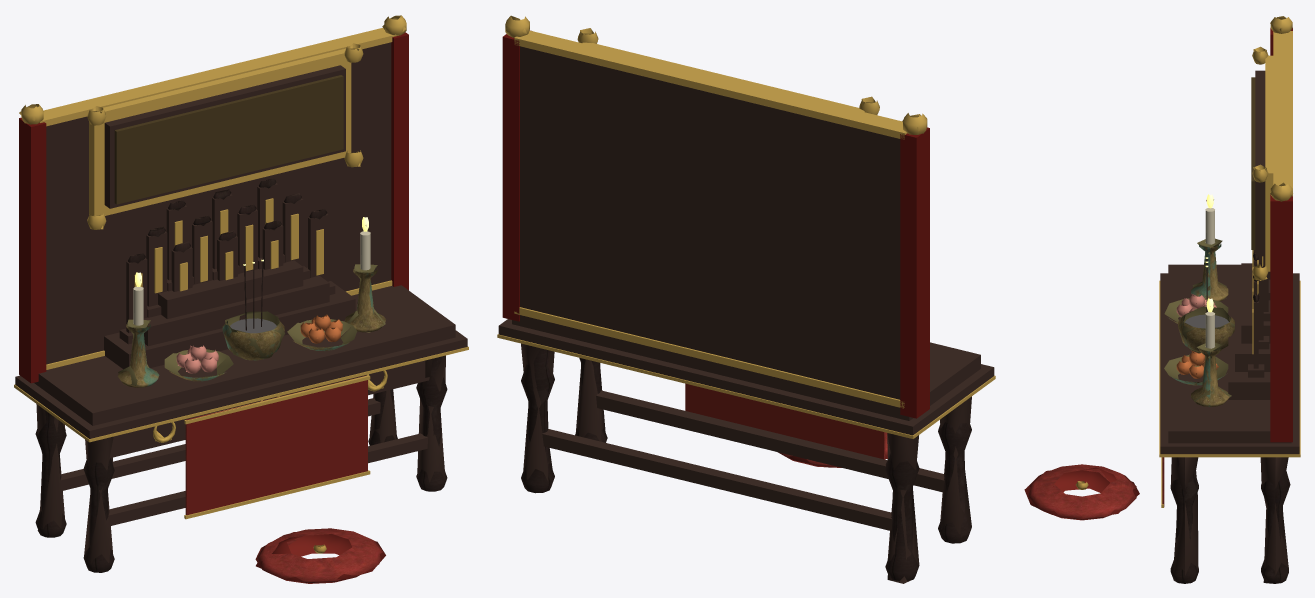
File: prop_ancestral_altar.gltf
3 renders of one model, left to right at view 1: azimuth 30°, elevation 25°; view 2: azimuth 150°, elevation 25°; view 3: azimuth 270°, elevation 25°, orthographic. The views are drawn at different scales.
Parts seen in each view (by area): view 1: Far, Near; view 2: Far, Near; view 3: Far, Near.
Part boxes in pixels (x1,y1,x2,y2): Far: (14,15,468,581); Near: (14,16,468,583); Far: (498,15,994,583); Near: (497,16,995,581); Far: (1024,16,1300,583); Near: (1027,17,1300,583).
Bounding box in the file's own units: 2.53 × 2.71 × 1.68.
13 materials, 6 textured.
